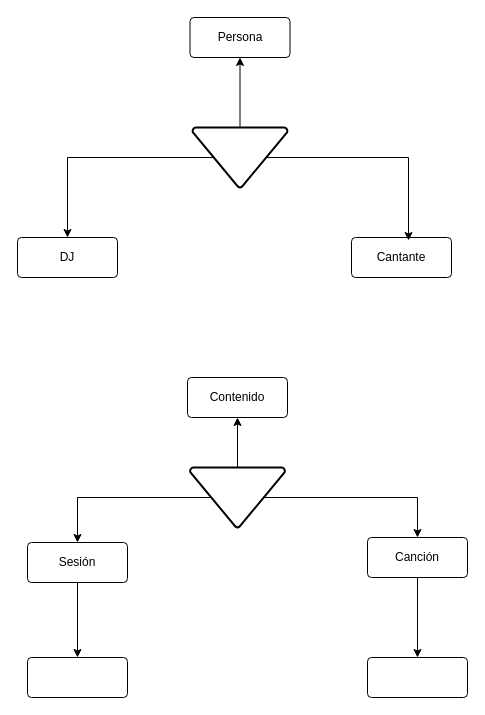
This 485x715 diagram has some shape labels left out. Each missing label, with the box of its shape:
Categoría: (26, 656, 128, 698)
Género: (366, 656, 468, 698)
